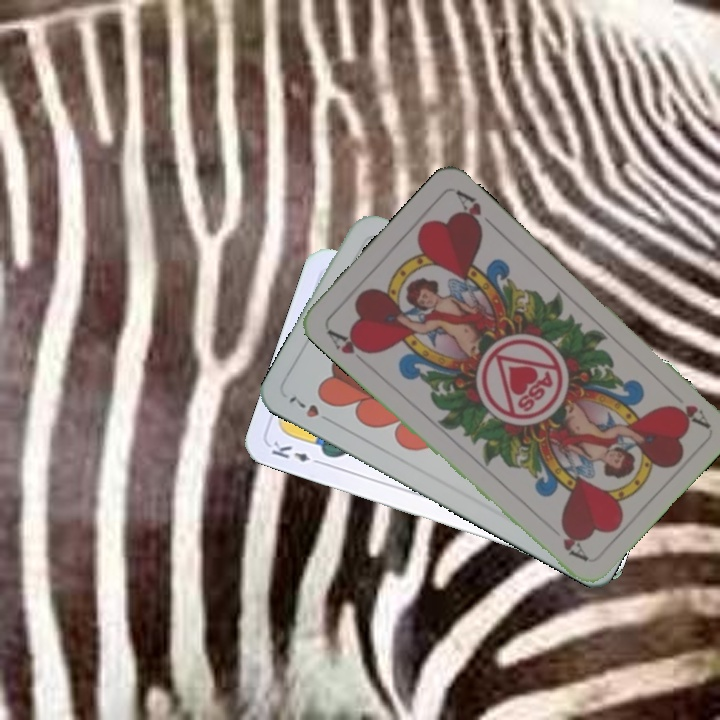EK: (267, 437, 325, 467)
H7: (285, 390, 337, 427)
HA: (322, 325, 374, 357), (664, 400, 712, 430)
